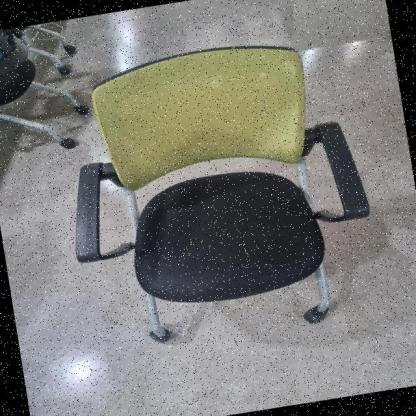Chair: (19, 24, 416, 374)
